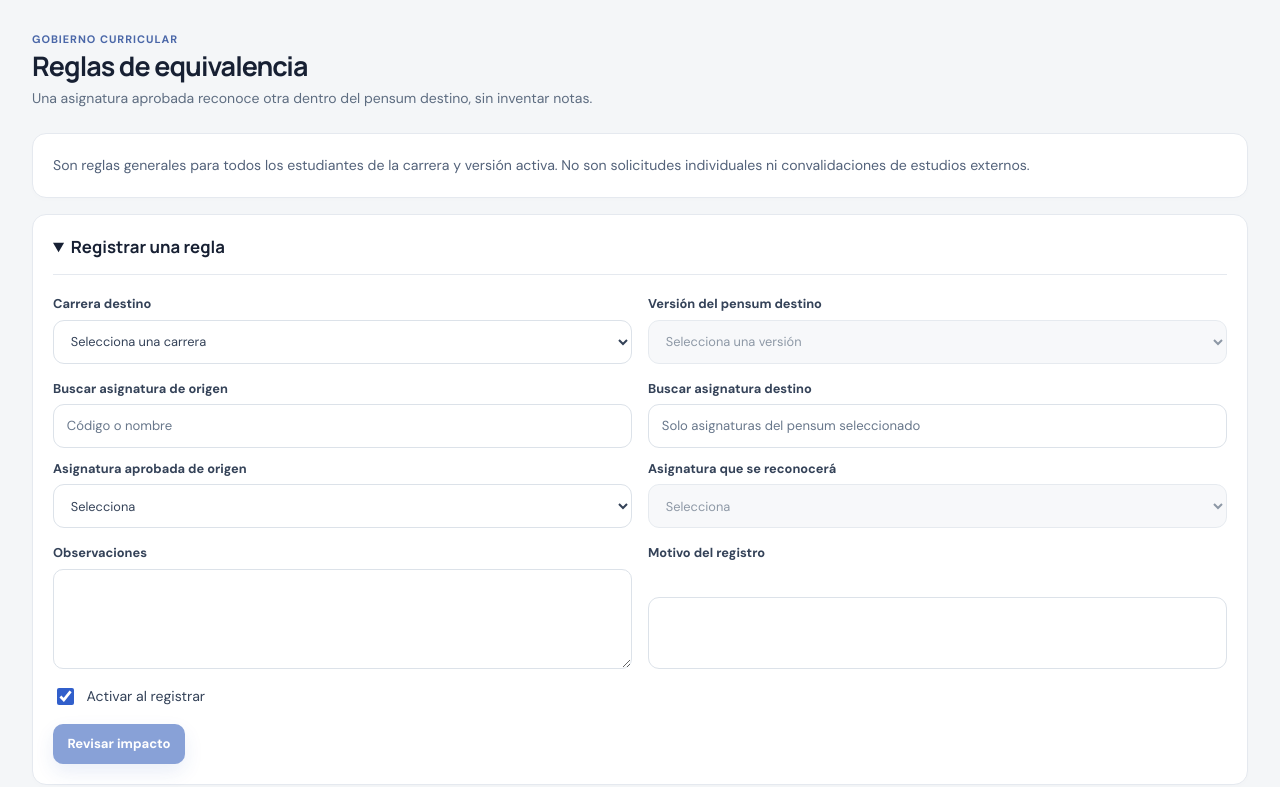
Test: limits destination to the selected plan and requires impact before creation
Expected: the heading "Reglas de equivalencia" is shown, [32,47,308,84]
Select "ING · Ingeniería" in the dropdown labelled "Carrera destino" at (342, 342), box [53,320,632,364]
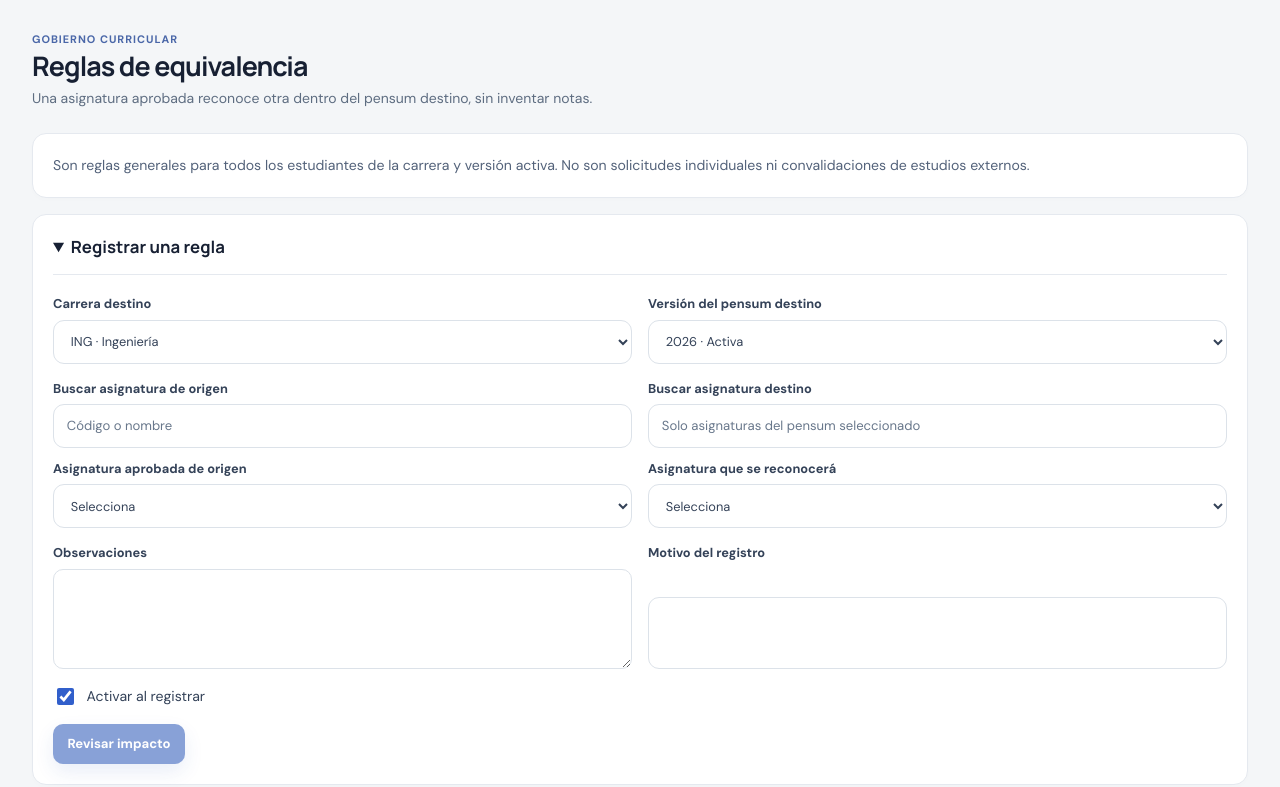
Now the dropdown labelled "Versión del pensum destino" shows "2026 · Activa", box [648,320,1227,364]
Select "PROG · Programación" in the dropdown labelled "Asignatura aprobada de origen" at (342, 506), box [53,484,632,528]
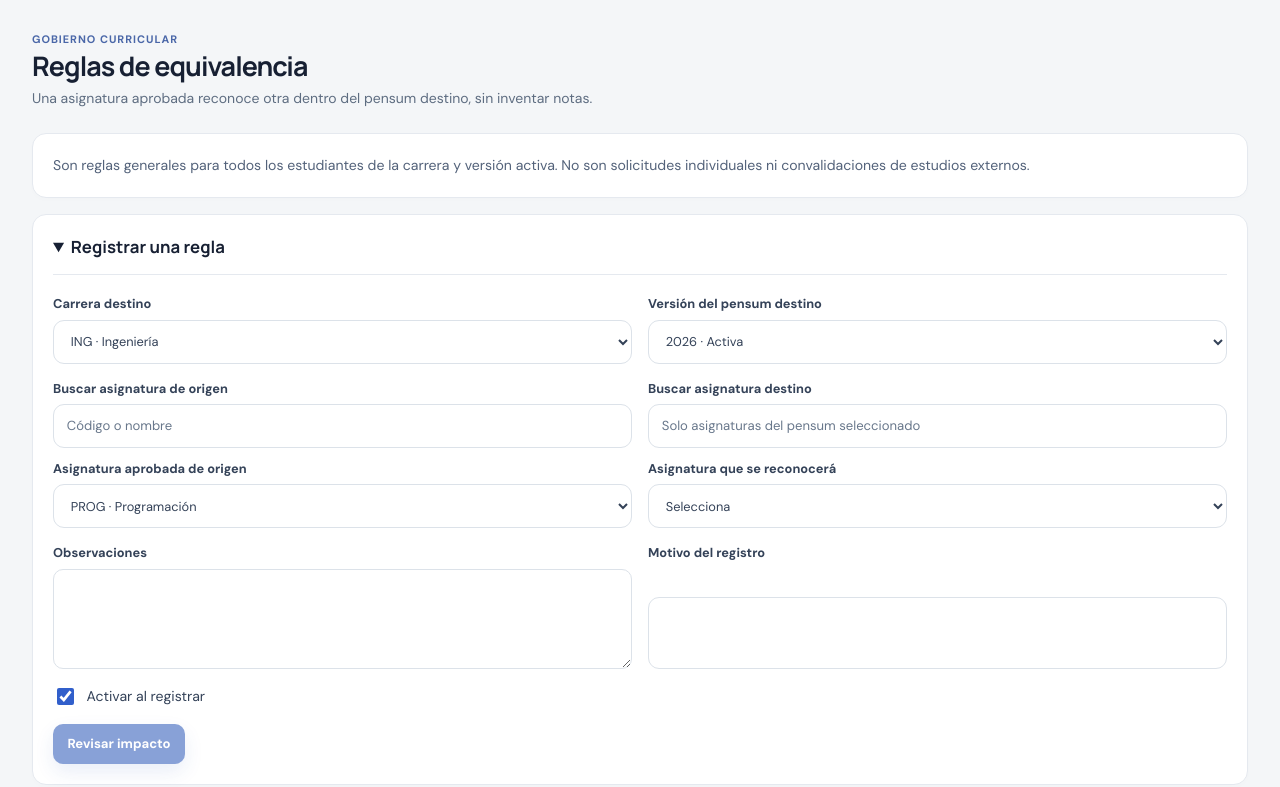
Select "MAT · Matemática · 3 créditos" in the dropdown labelled "Asignatura que se reconocerá" at (938, 506), box [648,484,1227,528]
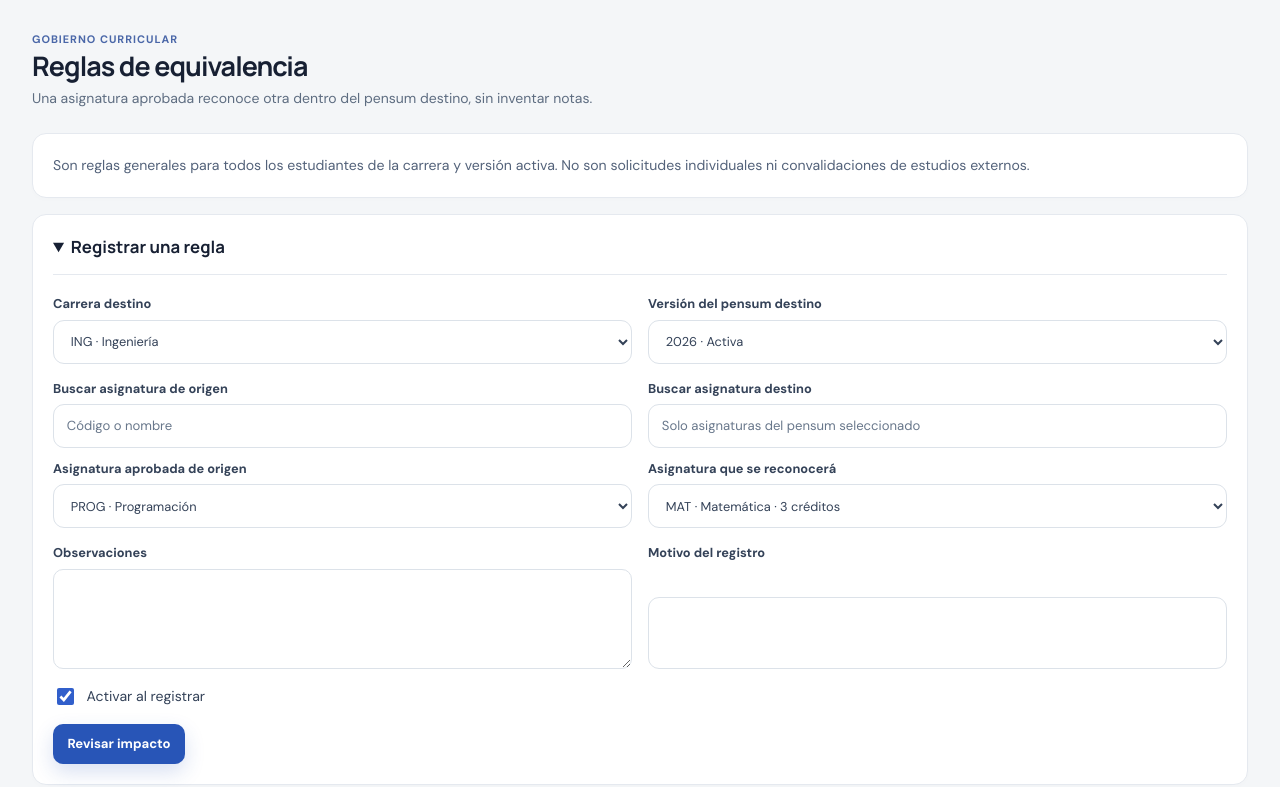
Type "Comité académico" into the field labelled "Motivo del registro".
click(938, 632); type("Comité académico")  # box [648,596,1227,668]
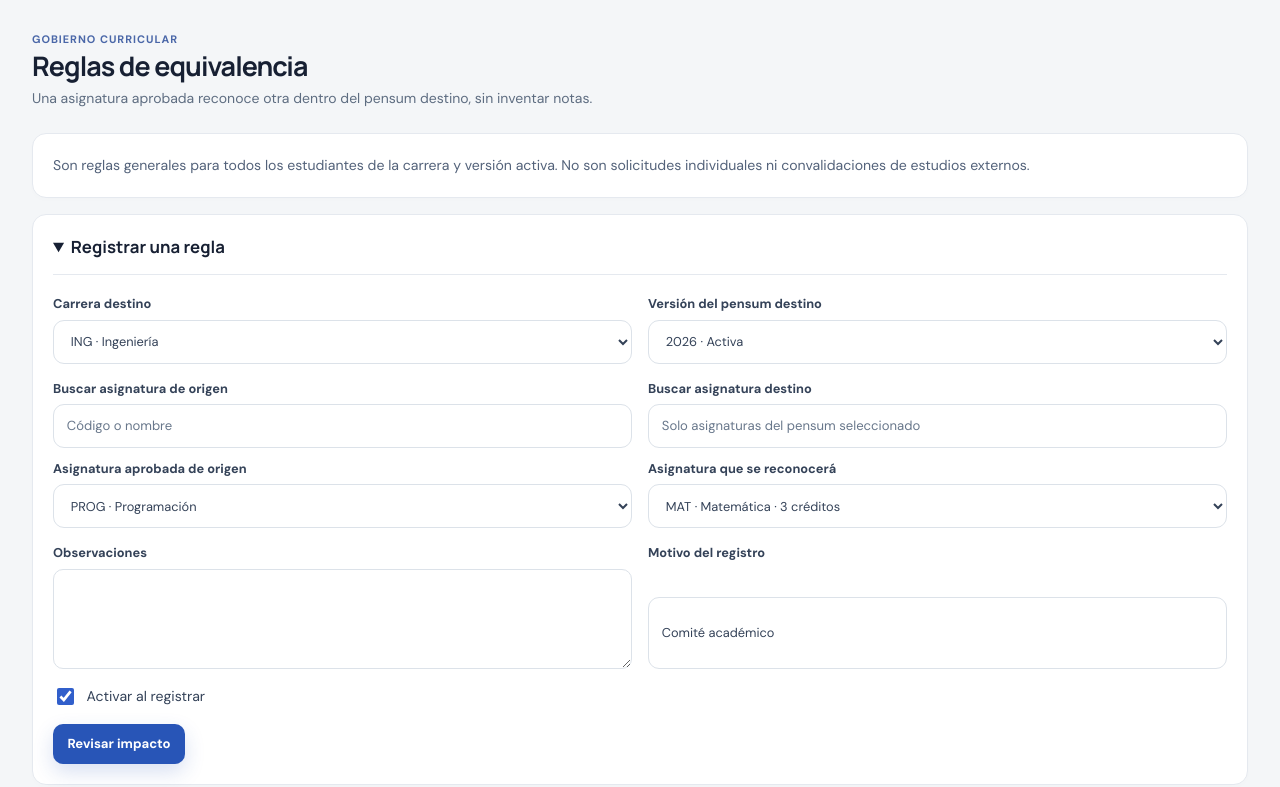
Click the button "Revisar impacto".
click(119, 744)  # box [53,724,185,764]
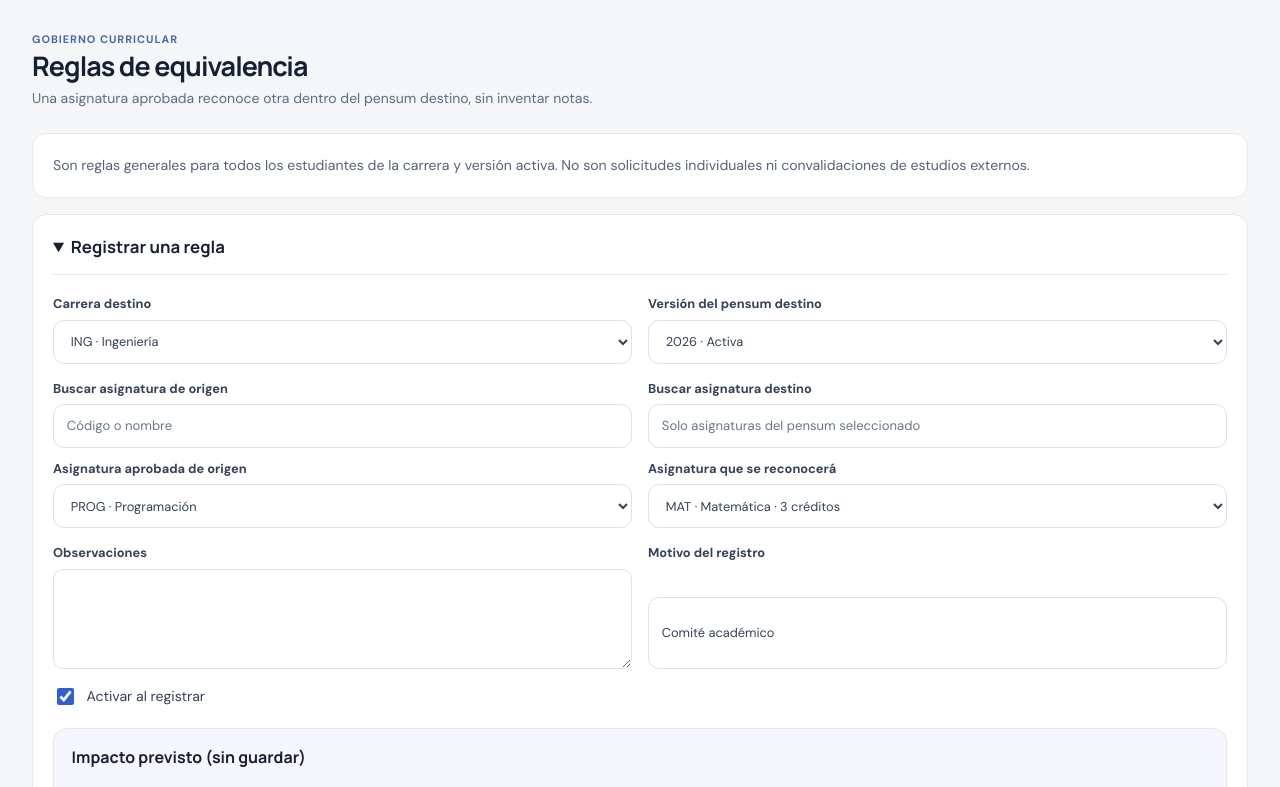
Now the heading "Impacto previsto (sin guardar)" is shown, box [72,746,306,768]
Type "Nuevo criterio" into the text box labelled "Observaciones".
click(342, 618); type("Nuevo criterio")  # box [53,568,632,668]
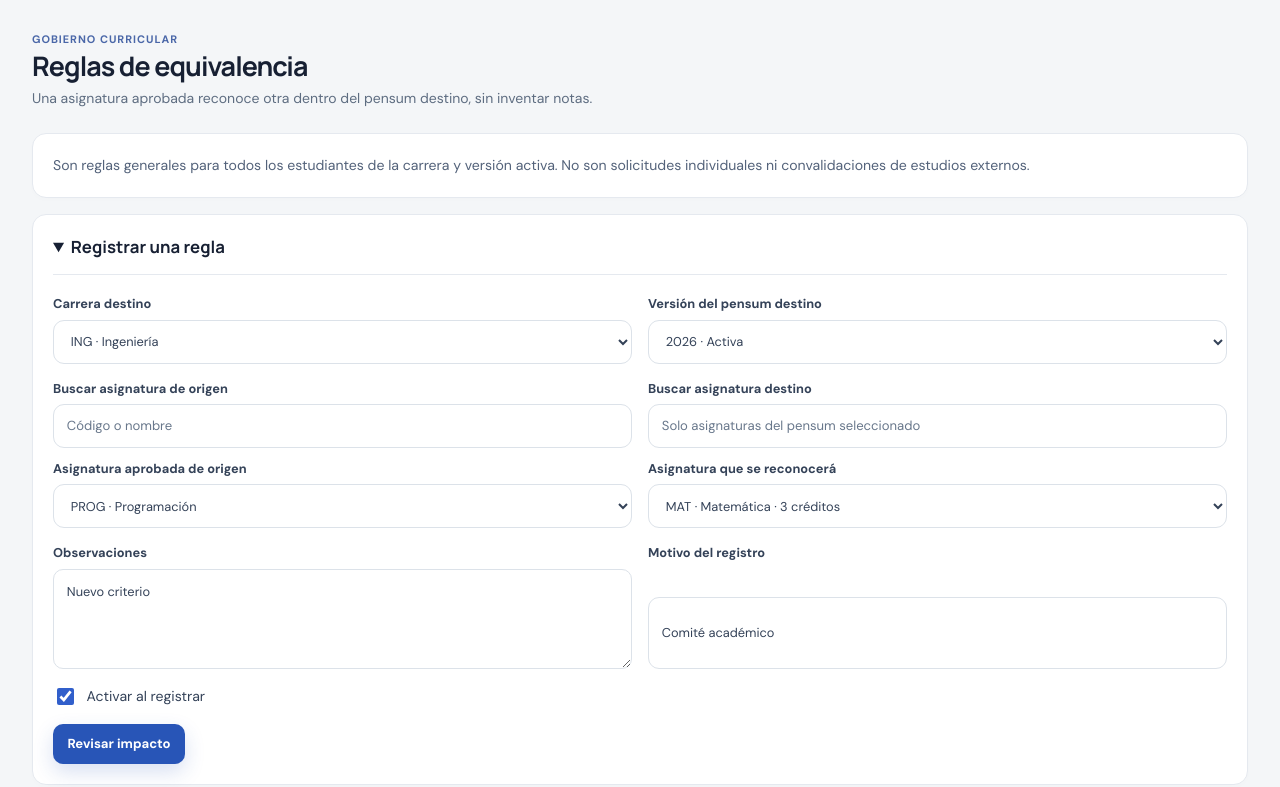
Now the heading "Impacto previsto (sin guardar)" is gone
Now the button "Revisar impacto" is shown, box [53,724,185,764]
